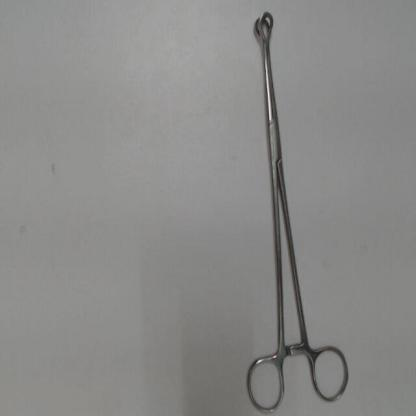8 Babcock Tissue Forceps: (243, 5, 352, 413)
